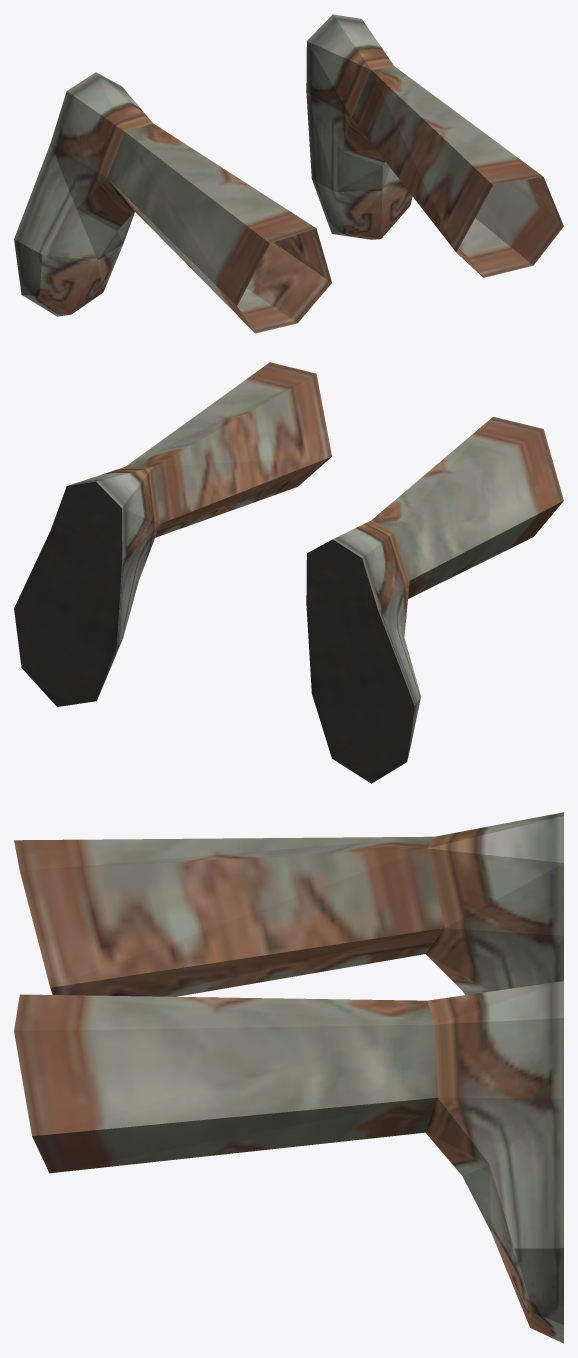
Rendered from robber_shoe_male_47041.obj.
The picture shows the model from 3 angles, top to bottom: view 1: azimuth 30°, elevation 25°; view 2: azimuth 150°, elevation 25°; view 3: azimuth 270°, elevation 25°; orthographic projection. The views are drawn at different scales.
Parts seen in each view (by area): view 1: robber_shoe_male_47041; view 2: robber_shoe_male_47041; view 3: robber_shoe_male_47041.
Part boxes in pixels (x1=…): robber_shoe_male_47041: x1=14, y1=14, x2=563, y2=333; robber_shoe_male_47041: x1=14, y1=362, x2=563, y2=783; robber_shoe_male_47041: x1=14, y1=812, x2=563, y2=1343.
Size of the model in its own units: 27.39 by 15.34 by 22.78.
1 material, 1 textured.
